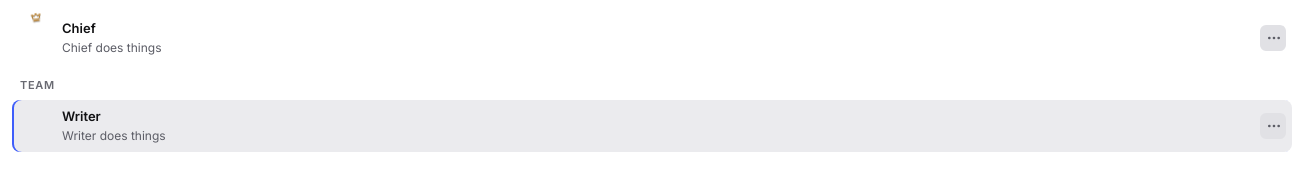
BotList actions › never offers to delete the Chief of Staff
Click the button named "More actions for Chief": (1273, 38) [1260,25,1286,51]
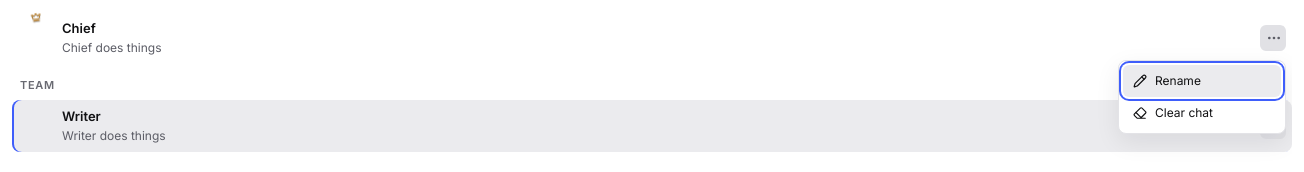
Check: the menu item "Rename" is shown, box [1123,64,1281,96]
